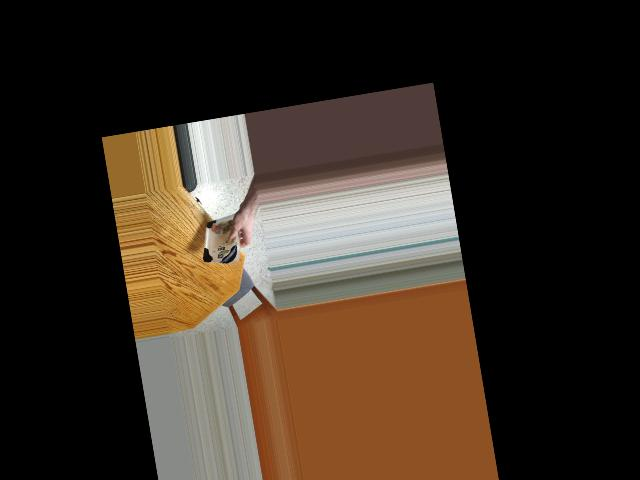cheese: (199, 208, 243, 269)
